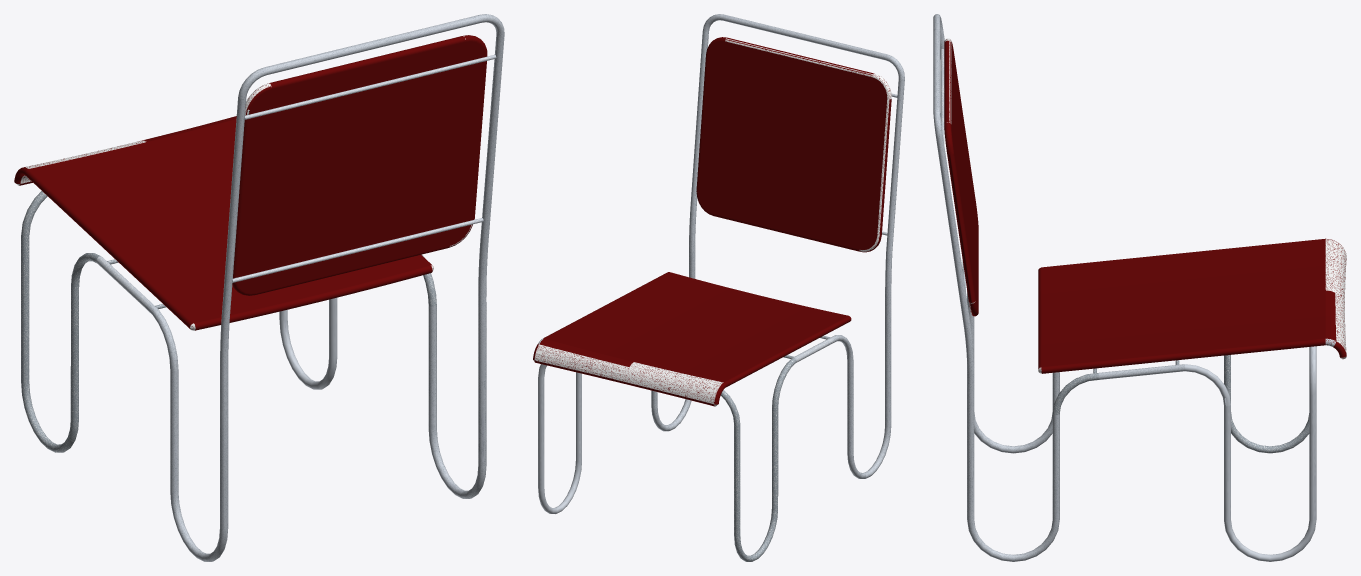
3 renders of one model, left to right at view 1: azimuth 30°, elevation 25°; view 2: azimuth 150°, elevation 25°; view 3: azimuth 270°, elevation 25°, orthographic. The views are drawn at different scales.
Parts seen in each view (by area): view 1: mesh4_mesh4-geometry, mesh2_mesh2-geometry, mesh1_mesh1-geometry; view 2: mesh4_mesh4-geometry, mesh2_mesh2-geometry, mesh1_mesh1-geometry; view 3: mesh2_mesh2-geometry, mesh1_mesh1-geometry, mesh4_mesh4-geometry.
Boxes of the visible parts, box(x1,y1,x2,y2) form: mesh4_mesh4-geometry: box(232, 35, 487, 295); mesh2_mesh2-geometry: box(14, 116, 433, 330); mesh1_mesh1-geometry: box(21, 14, 504, 561); mesh4_mesh4-geometry: box(696, 37, 891, 252); mesh2_mesh2-geometry: box(533, 272, 851, 406); mesh1_mesh1-geometry: box(538, 14, 904, 561); mesh2_mesh2-geometry: box(1038, 238, 1346, 373); mesh1_mesh1-geometry: box(933, 14, 1316, 561); mesh4_mesh4-geometry: box(944, 38, 978, 316).
Size of the model in its own units: 0.3798 by 0.7083 by 0.5951.
